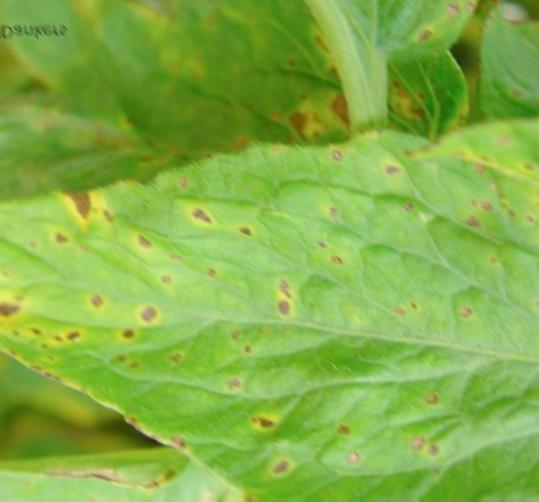Tomato leaf bacterial spot: (0, 86, 539, 502)
